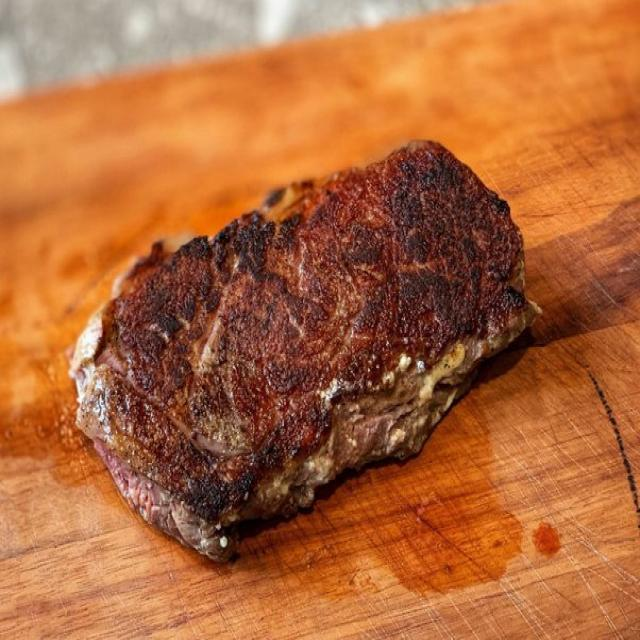Carne: (68, 136, 542, 563)
